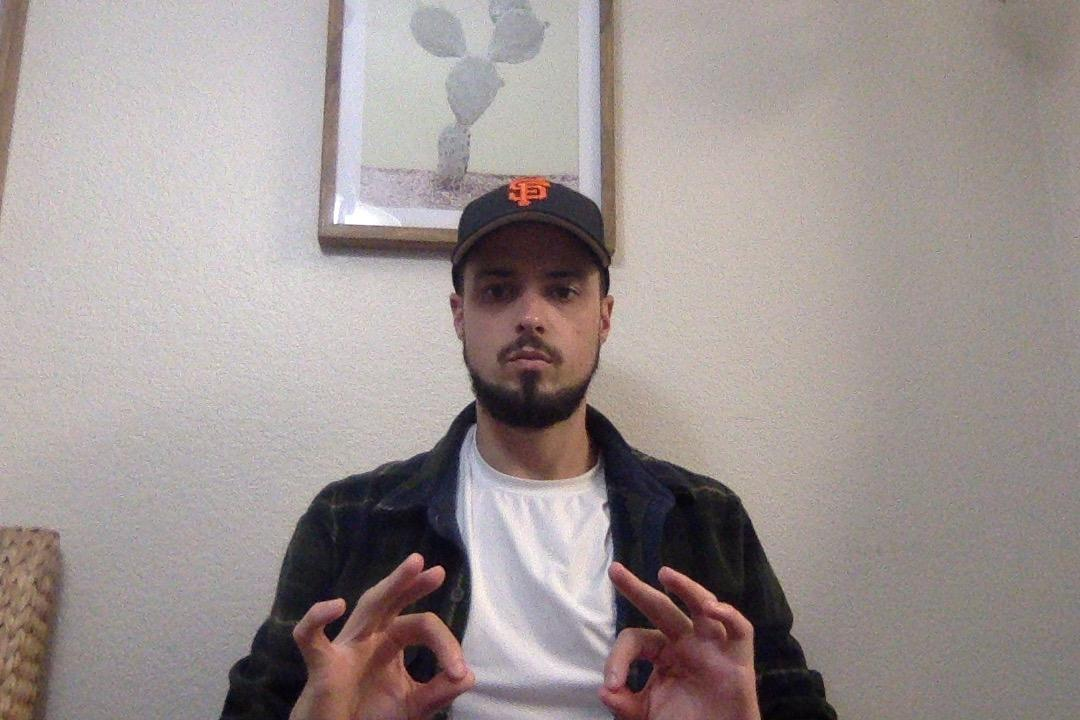Okay: (582, 548, 782, 720), (280, 547, 470, 720)
